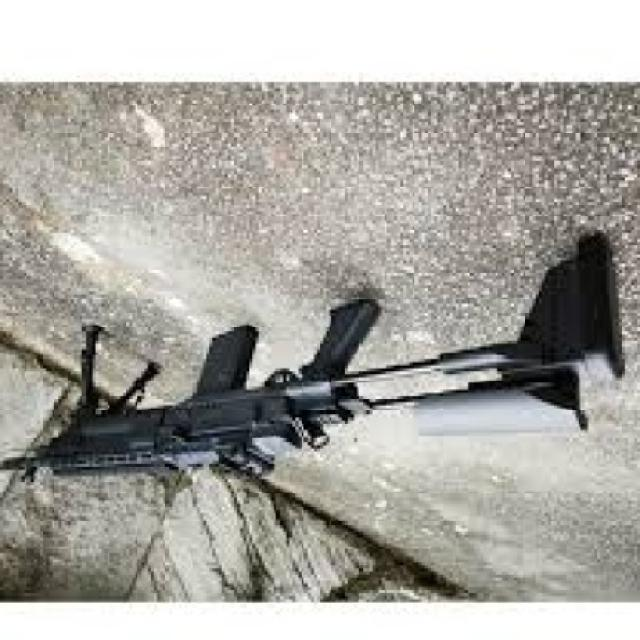Gun: (0, 250, 640, 508)
